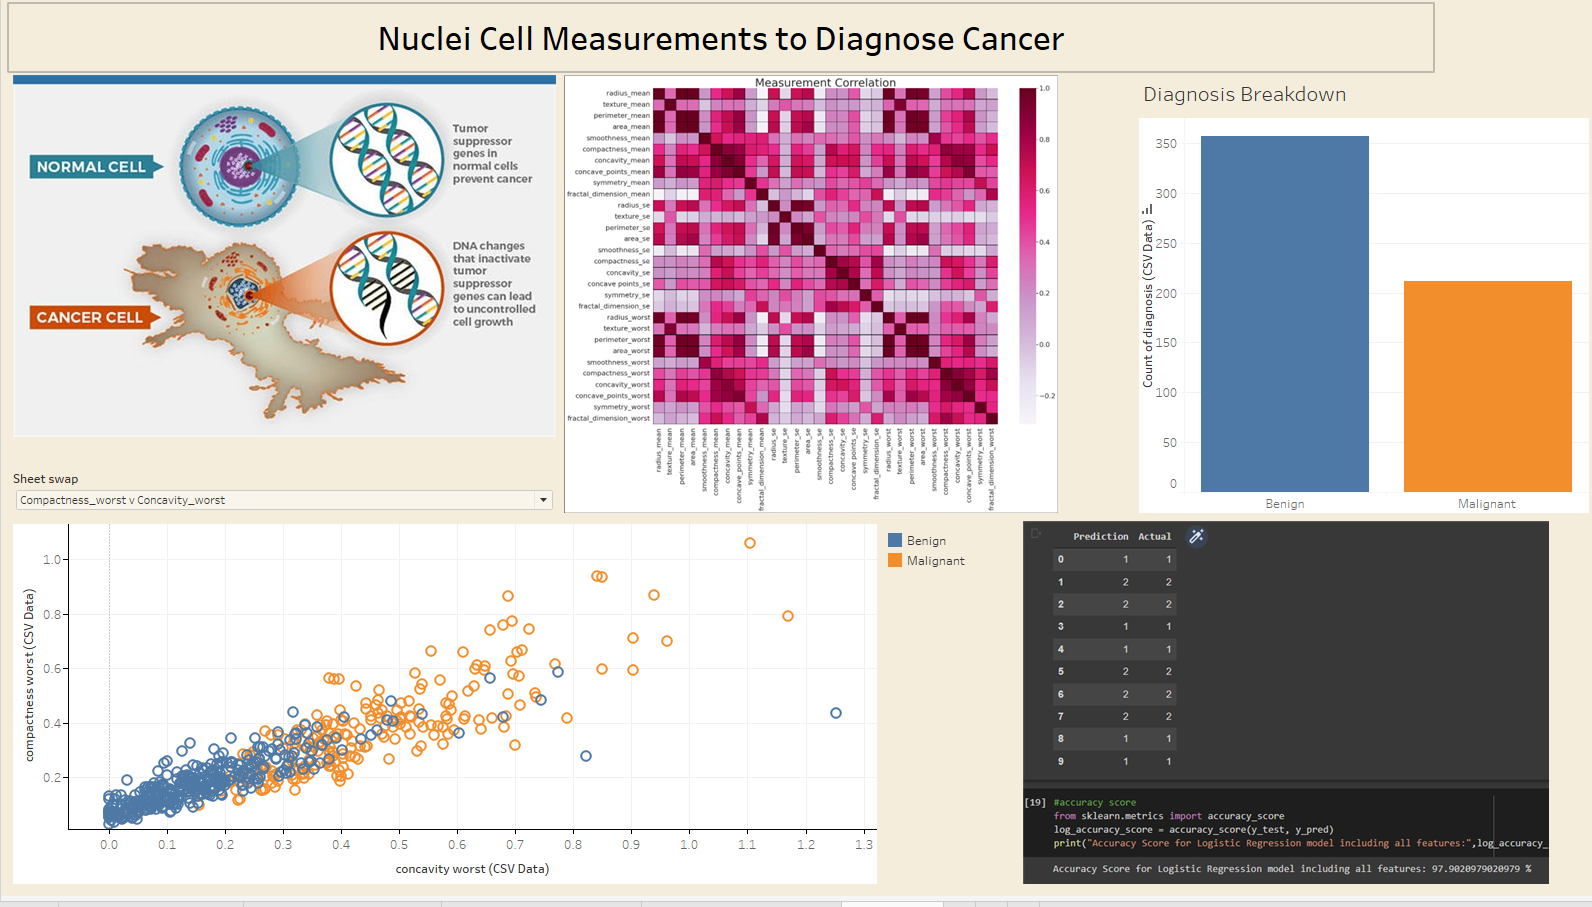

The page's visual inventory and layout, read from the dashboard file:
{"tool":"tableau","page":{"name":"Dashboard 1","canvas":[1600,900],"ordinal":0},"visuals":[{"type":"text","box":[8,8,1424,67]},{"type":"blank","box":[1432,8,160,67]},{"type":"image","box":[8,75,551,395]},{"type":"image","box":[559,75,575,446]},{"type":"worksheet","title":"Diagnosis Breakdown","mark":"Bar","rows":["diagnosis (CSV Data)"],"cols":["diagnosis"],"box":[1134,75,458,446]},{"type":"parameter","param":"[Parameters].[Parameter 1]","box":[8,470,551,51]},{"type":"worksheet","title":"Radius_worst v Perimeter_worst","mark":"Automatic","rows":["perimeter_worst"],"cols":["radius_worst"],"box":[8,521,872,1]},{"type":"legend","title":"Fractal_Dimension_worst v Compactness_worst","param":"[federated.1tuv2qw1oxnzgw0zs30c61pu1d8m].[none:diagnosis (CSV Data):nk]","box":[880,521,138,9]},{"type":"image","box":[1018,521,574,371]},{"type":"worksheet","title":"Area_mean v Perimeter_mean","mark":"Automatic","rows":["perimeter_mean"],"cols":["area_mean"],"box":[8,522,872,1]},{"type":"worksheet","title":"Fractal_Dimension_worst v Compactness_worst","mark":"Automatic","rows":["fractal_dimension_worst_ (CSV Data)"],"cols":["compactness_worst (CSV Data)"],"box":[8,523,872,1]},{"type":"worksheet","title":"Compactness_worst v Concavity Worst","mark":"Automatic","rows":["compactness_worst (CSV Data)"],"cols":["concavity_worst (CSV Data)"],"box":[8,524,872,368]},{"type":"legend","title":"Compactness_worst v Concavity Worst","param":"[federated.1tuv2qw1oxnzgw0zs30c61pu1d8m].[none:diagnosis (CSV Data):nk]","box":[880,530,138,48]},{"type":"legend","title":"Radius_worst v Perimeter_worst","param":"[federated.1tuv2qw1oxnzgw0zs30c61pu1d8m].[none:diagnosis:nk]","box":[880,578,138,9]},{"type":"legend","title":"Area_mean v Perimeter_mean","param":"[federated.1tuv2qw1oxnzgw0zs30c61pu1d8m].[none:diagnosis (CSV Data):nk]","box":[880,587,138,9]}]}

Visuals, with their boxes in screenshot pixels (x1, y1, x2, y2), scaled from the page's 1600x900 canvas onto the 1592x907 screenshot:
text: [left=8, top=8, right=1425, bottom=76]
blank: [left=1425, top=8, right=1584, bottom=76]
image: [left=8, top=76, right=556, bottom=474]
image: [left=556, top=76, right=1128, bottom=525]
"Diagnosis Breakdown" worksheet (Bar marks): [left=1128, top=76, right=1584, bottom=525]
parameter: [left=8, top=474, right=556, bottom=525]
"Radius_worst v Perimeter_worst" worksheet: [left=8, top=525, right=876, bottom=526]
"Fractal_Dimension_worst v Compactness_worst" legend: [left=876, top=525, right=1013, bottom=534]
image: [left=1013, top=525, right=1584, bottom=899]
"Area_mean v Perimeter_mean" worksheet: [left=8, top=526, right=876, bottom=527]
"Fractal_Dimension_worst v Compactness_worst" worksheet: [left=8, top=527, right=876, bottom=528]
"Compactness_worst v Concavity Worst" worksheet: [left=8, top=528, right=876, bottom=899]
"Compactness_worst v Concavity Worst" legend: [left=876, top=534, right=1013, bottom=582]
"Radius_worst v Perimeter_worst" legend: [left=876, top=582, right=1013, bottom=592]
"Area_mean v Perimeter_mean" legend: [left=876, top=592, right=1013, bottom=601]
